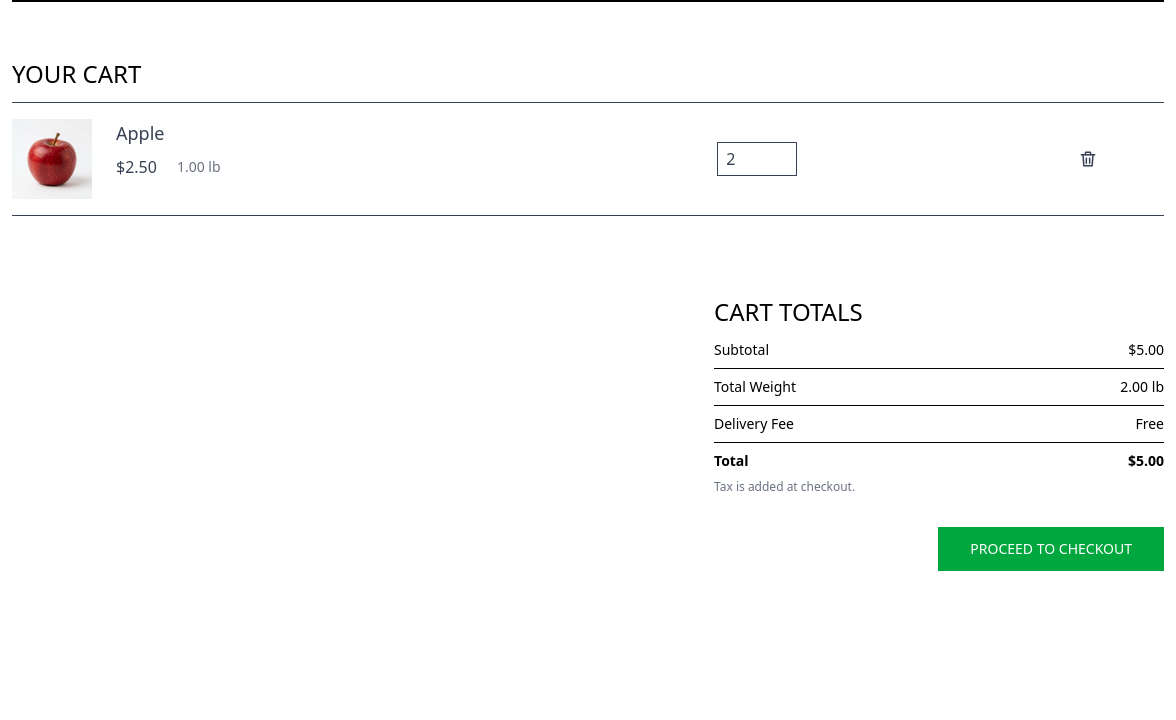
Test case: Cart › removing the final item displays the empty cart
The image size is (1176, 720).
Expected: the number field is shown, [717,142,797,176]
Click the button named "Remove Apple" at (1121, 159), box [1078,149,1164,169]
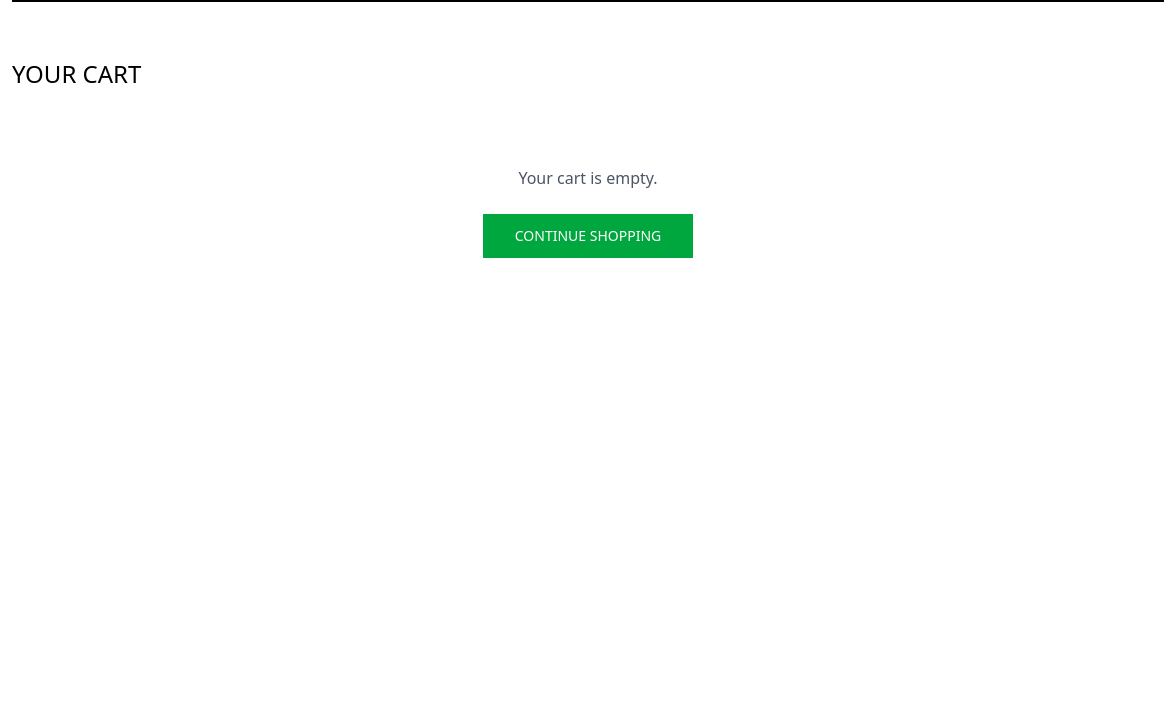
Now the text "Your cart is empty." is shown, box [518,167,658,189]
Now the text "Apple" is gone
Now the link "PROCEED TO CHECKOUT" is gone
